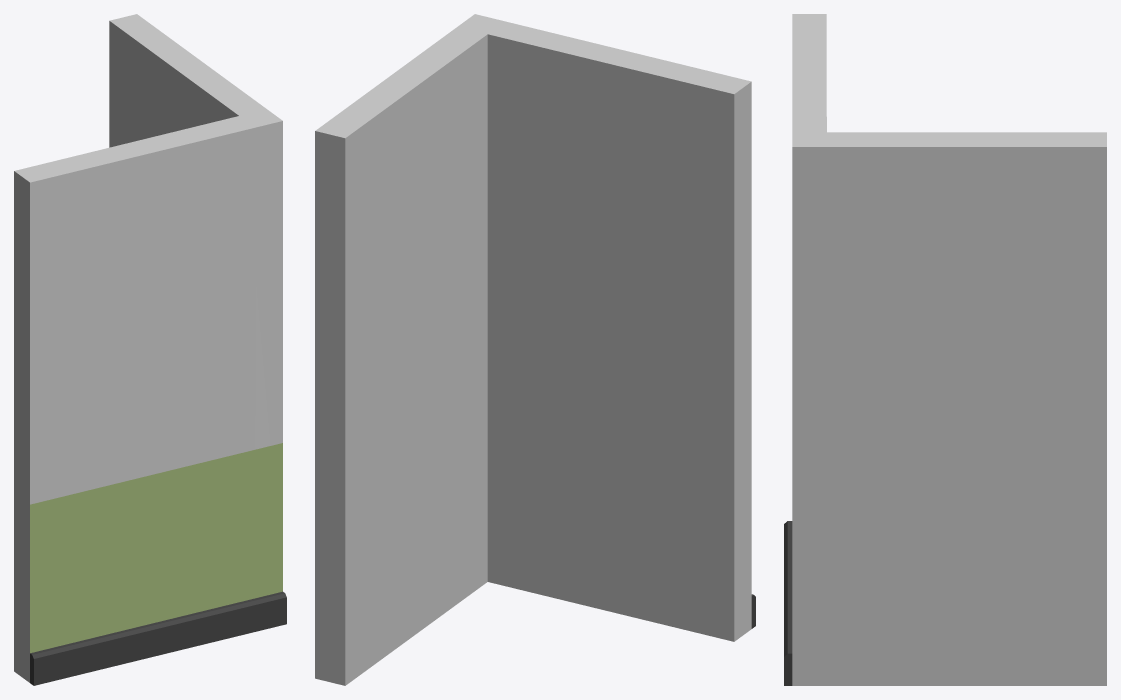
Rendered from Kinder3_Corner2.fbx.
3 renders of one model, left to right at view 1: azimuth 30°, elevation 25°; view 2: azimuth 150°, elevation 25°; view 3: azimuth 270°, elevation 25°, orthographic. The views are drawn at different scales.
Parts seen in each view (by area): view 1: coner.003, coner.002; view 2: coner.003; view 3: coner.003, coner.002.
Boxes of the visible parts, box(x1,y1,x2,y2) form: coner.003: box(14, 14, 282, 682); coner.002: box(30, 591, 286, 685); coner.003: box(315, 14, 751, 685); coner.003: box(792, 14, 1106, 685); coner.002: box(784, 521, 792, 685).
Bounding box in the file's own units: 132 × 250 × 136.
